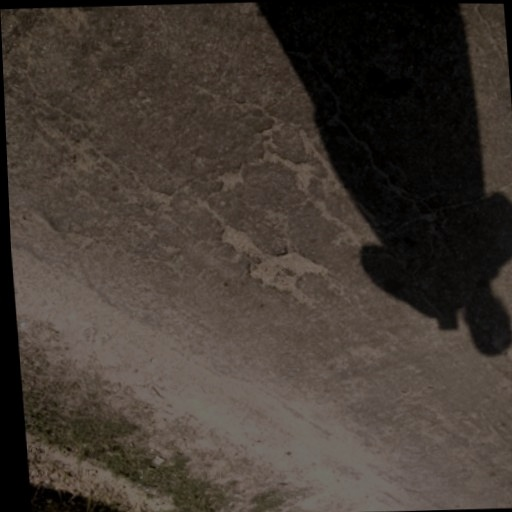pothole: (216, 222, 330, 306), (215, 166, 247, 194)
